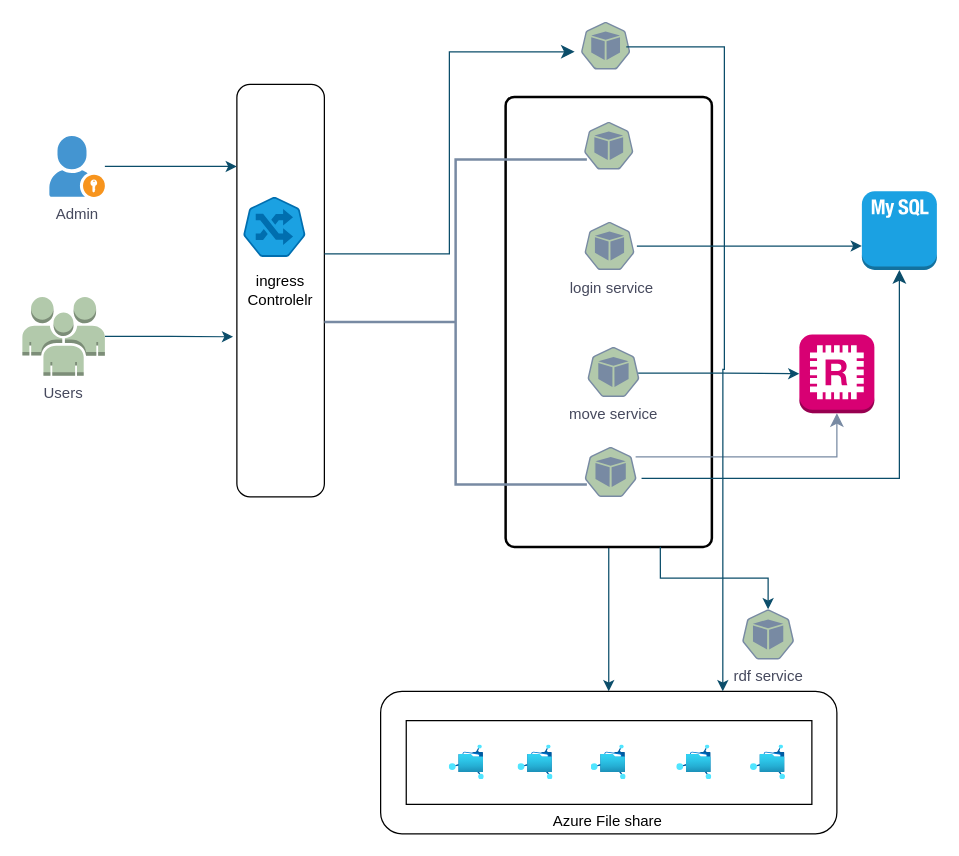
The diagram is 959 pixels wide and 856 high, and some of its shapes have lost their labels. The shapes that lost their labels are listed below. From the top down, each one's centre as x and y in pixels, then its label:
At point (605, 45): "Admin Service".
At point (608, 145): "assess service".
At point (610, 471): "get service".
